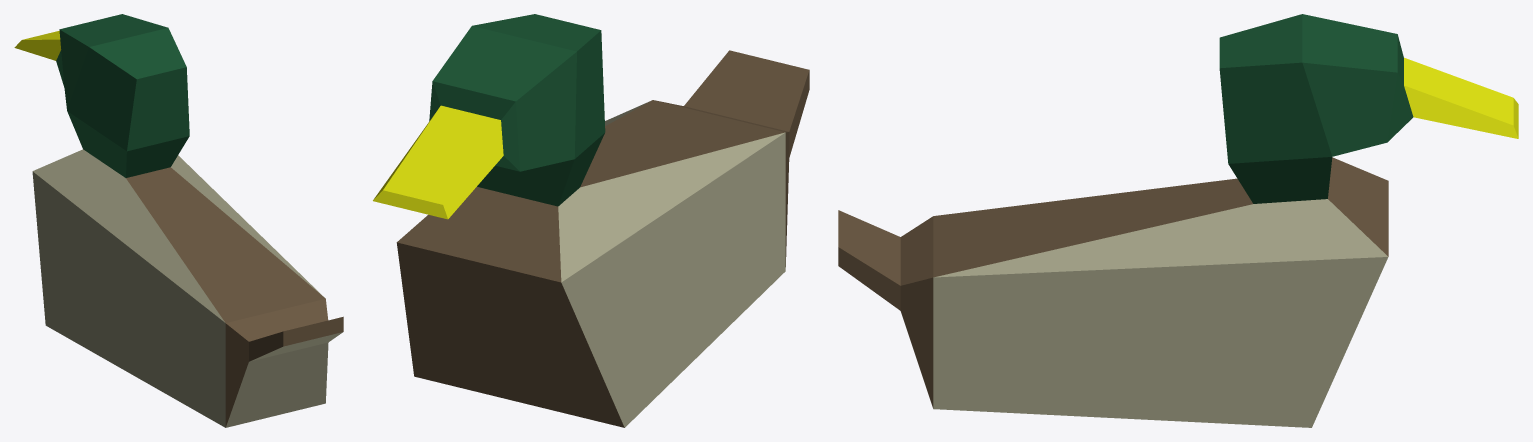
The model's file is Duck.fbx.
The picture shows the model from 3 angles, left to right: view 1: azimuth 30°, elevation 25°; view 2: azimuth 150°, elevation 25°; view 3: azimuth 270°, elevation 25°; orthographic projection. The views are drawn at different scales.
Parts seen in each view (by area): view 1: Cube; view 2: Cube; view 3: Cube.
Part boxes in pixels (left/top/right/bottom): Cube: left=14, top=14, right=343, bottom=427; Cube: left=373, top=14, right=809, bottom=427; Cube: left=838, top=14, right=1518, bottom=427.
Bounding box in the file's own units: 200 × 327 × 591.
